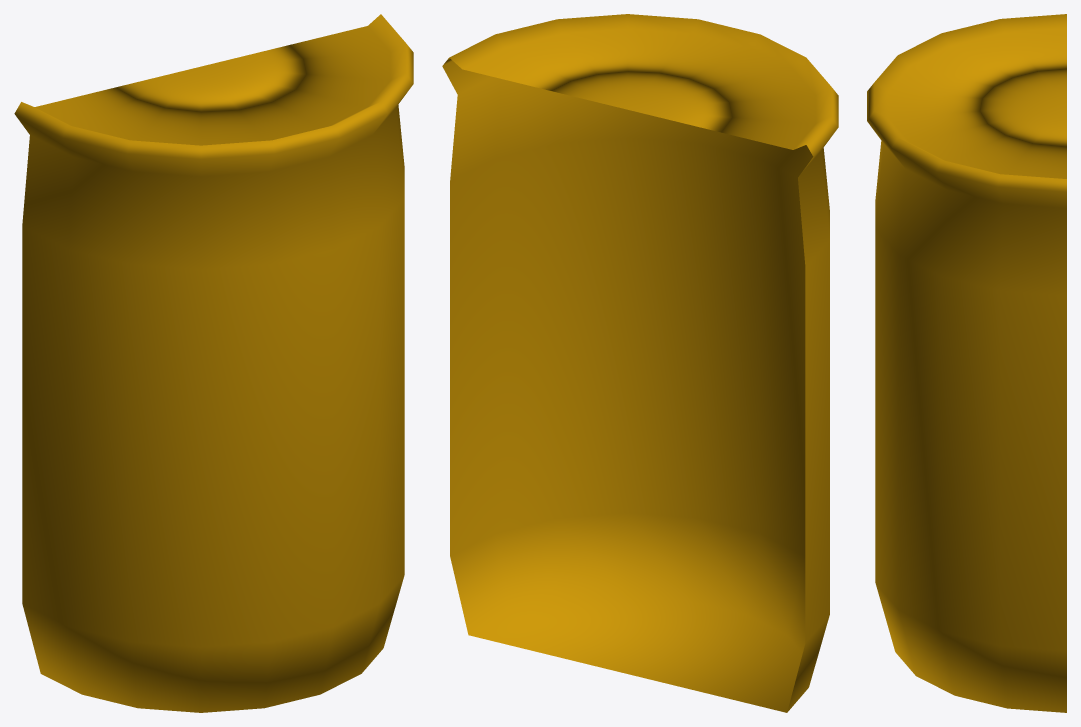
File: barrel_high_2.dae
3 views of the same model, side by side, from view 1: azimuth 30°, elevation 25°; view 2: azimuth 150°, elevation 25°; view 3: azimuth 270°, elevation 25° (orthographic). The views are drawn at different scales.
Parts seen in each view (by area): view 1: Plane; view 2: Plane; view 3: Plane.
Part boxes in pixels (<box>): Plane: <box>14,14,413,712</box>; Plane: <box>442,14,838,712</box>; Plane: <box>867,14,1066,712</box>.
Bounding box in the file's own units: 0.6056 × 0.2982 × 0.8934.
